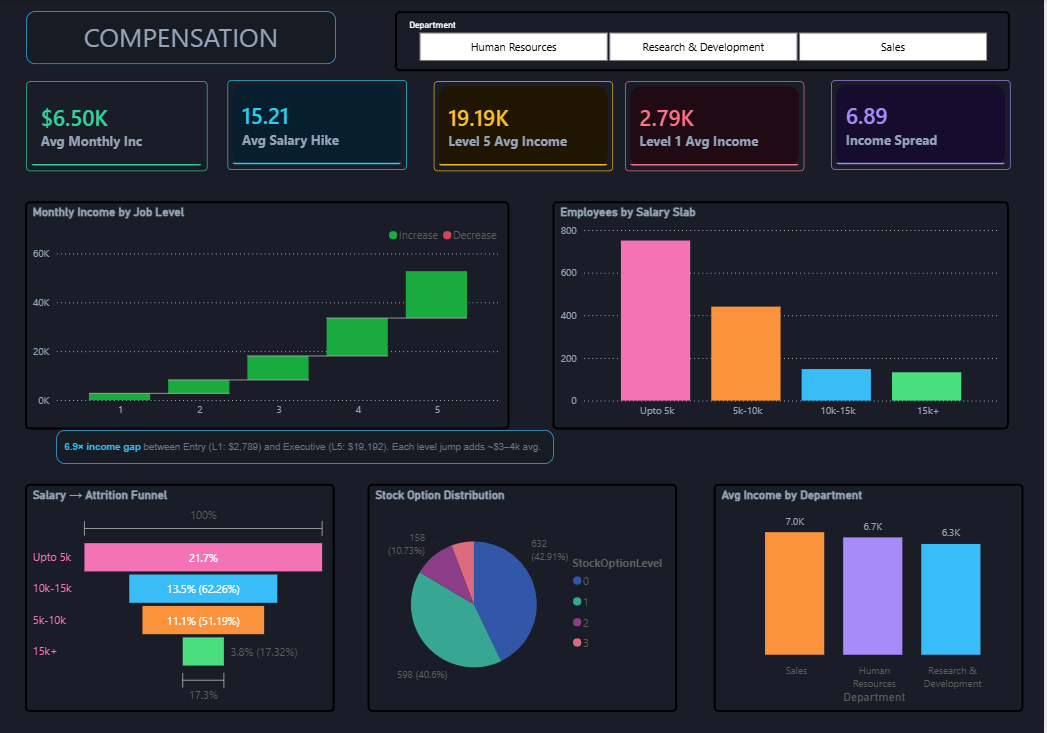

Layout of this report page (visuals, bound fields, positions):
{"tool":"powerbi","page":{"name":"Compensation","canvas":[1280,900],"ordinal":3},"visuals":[{"type":"cardVisual","fields":{"Data":["Avg(HR_Analytics.PercentSalaryHike)"]},"box":[278.6,98.5,220,110],"z":0},{"type":"cardVisual","fields":{"Data":["Avg(HR_Analytics.MonthlyIncome)"]},"box":[532.3,99.4,220,110],"z":1000},{"type":"cardVisual","fields":{"Data":["HR_Analytics.Avg Monthly Income"]},"box":[31.6,99.1,222,110],"z":2000},{"type":"cardVisual","fields":{"Data":["Avg(HR_Analytics.MonthlyIncome)"]},"box":[767.6,99.1,220,110],"z":3000},{"type":"cardVisual","fields":{"Data":["HR_Analytics.Income Spread"]},"box":[1020.2,98.7,220,110],"z":4000},{"type":"textbox","box":[32.2,13.8,380.4,64.4],"z":5000},{"type":"waterfallChart","title":"Monthly Income by Job Level","fields":{"Category":["HR_Analytics.JobLevel"],"Y":["Avg(HR_Analytics.MonthlyIncome)"]},"box":[30,247.1,594.3,280],"z":6000},{"type":"clusteredColumnChart","title":"Employees by Salary Slab","fields":{"Category":["HR_Analytics.SalarySlab"],"Y":["HR_Analytics.Total Employees"]},"box":[678.6,247.1,560,280],"z":7000},{"type":"funnel","title":"Salary → Attrition Funnel","fields":{"Category":["HR_Analytics.SalarySlab"],"Y":["HR_Analytics.Attrition Rate"]},"box":[30,594.3,380,280],"z":8000},{"type":"pieChart","title":"Stock Option Distribution","fields":{"Category":["HR_Analytics.StockOptionLevel"],"Y":["HR_Analytics.Total Employees"]},"box":[451.4,594.3,380,280],"z":9000},{"type":"clusteredColumnChart","title":"Avg Income by Department","fields":{"Category":["HR_Analytics.Department"],"Y":["Avg(HR_Analytics.MonthlyIncome)"]},"box":[875.7,594.3,380,280],"z":10000},{"type":"textbox","box":[68.6,527.1,610,41.4],"z":11000},{"type":"slicer","fields":{"Values":["HR_Analytics.Department"]},"box":[484.7,13.8,754.6,73.6],"z":11001}]}

Visuals, with their boxes in screenshot pixels (x1, y1, x2, y2), scaled from the page's 1280x900 canvas onto the 1047x733 screenshot:
cardVisual - Avg(HR_Analytics.PercentSalaryHike): <box>228,80,408,170</box>
cardVisual - Avg(HR_Analytics.MonthlyIncome): <box>435,81,615,171</box>
cardVisual - HR_Analytics.Avg Monthly Income: <box>26,81,207,170</box>
cardVisual - Avg(HR_Analytics.MonthlyIncome): <box>628,81,808,170</box>
cardVisual - HR_Analytics.Income Spread: <box>834,80,1014,170</box>
textbox: <box>26,11,337,64</box>
"Monthly Income by Job Level" waterfallChart: <box>25,201,511,429</box>
"Employees by Salary Slab" clusteredColumnChart: <box>555,201,1013,429</box>
"Salary → Attrition Funnel" funnel: <box>25,484,335,712</box>
"Stock Option Distribution" pieChart: <box>369,484,680,712</box>
"Avg Income by Department" clusteredColumnChart: <box>716,484,1027,712</box>
textbox: <box>56,429,555,463</box>
slicer - HR_Analytics.Department: <box>396,11,1014,71</box>
